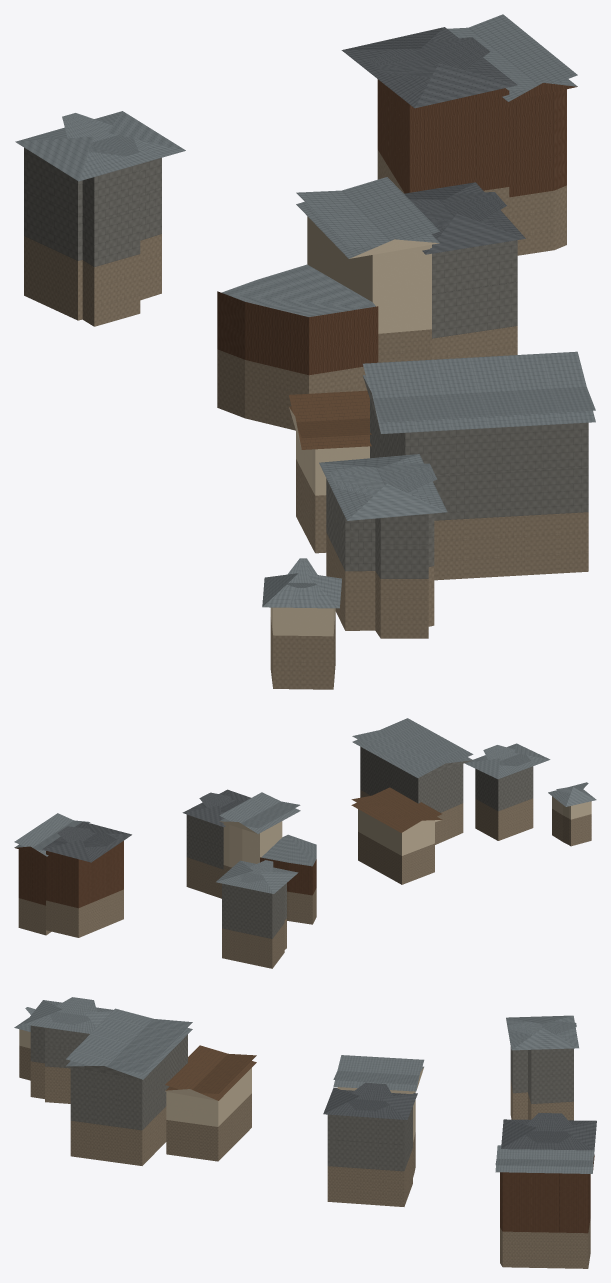
File: bld_c36_-29_443.gltf
3 renders of one model, top to bottom at view 1: azimuth 30°, elevation 25°; view 2: azimuth 150°, elevation 25°; view 3: azimuth 270°, elevation 25°, orthographic. The views are drawn at different scales.
Visible parts, largest first — view 1: bld_c36_-29_443; view 2: bld_c36_-29_443; view 3: bld_c36_-29_443.
Boxes of the visible parts, bbox=[...] form: bld_c36_-29_443: bbox=[15, 14, 595, 689]; bld_c36_-29_443: bbox=[14, 718, 596, 968]; bld_c36_-29_443: bbox=[14, 997, 596, 1268].
Size of the model in its own units: 63.01 by 16.5 by 75.49.
Materials: 10 (10 with a texture image).
